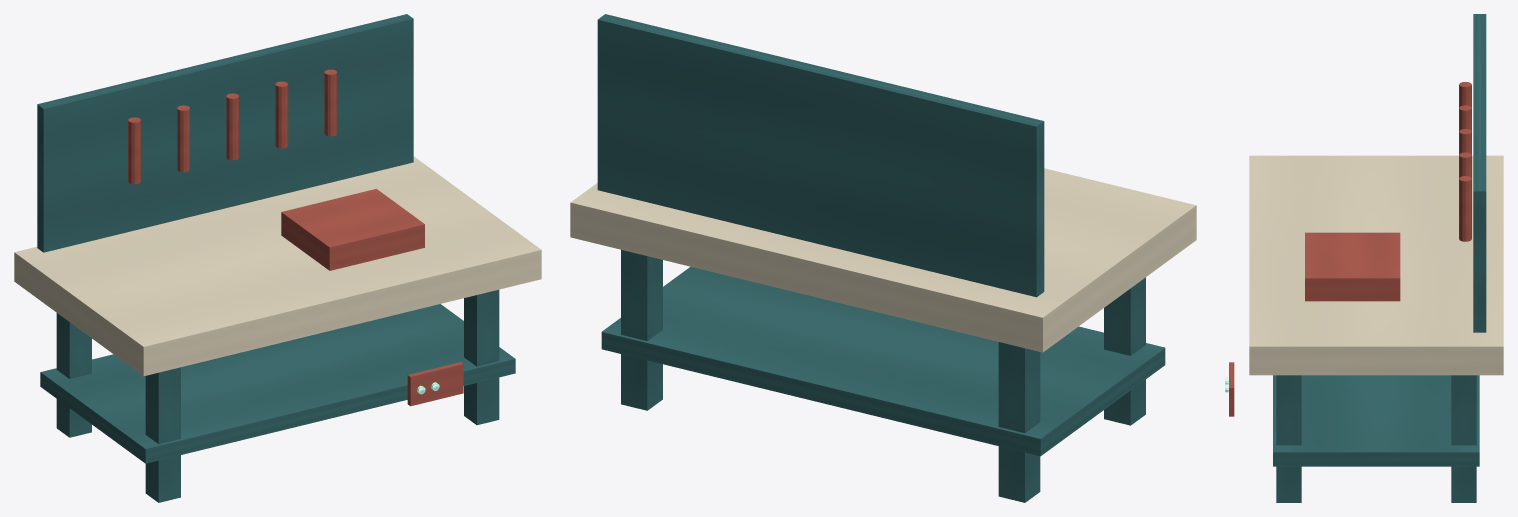
The model's file is atlas100-s038-a06.glb.
The picture shows the model from 3 angles, left to right: view 1: azimuth 30°, elevation 25°; view 2: azimuth 150°, elevation 25°; view 3: azimuth 270°, elevation 25°; orthographic projection. The views are drawn at different scales.
Parts seen in each view (by area): view 1: atlas100-s038-a06:part-004, atlas100-s038-a06:part-006, atlas100-s038-a06:part-005, atlas100-s038-a06:part-012, atlas100-s038-a06:part-003, atlas100-s038-a06:part-001, atlas100-s038-a06:part-000, atlas100-s038-a06:part-013, atlas100-s038-a06:part-010, atlas100-s038-a06:part-011, atlas100-s038-a06:part-009, atlas100-s038-a06:part-007 (+1 smaller); view 2: atlas100-s038-a06:part-006, atlas100-s038-a06:part-005, atlas100-s038-a06:part-004, atlas100-s038-a06:part-000, atlas100-s038-a06:part-002, atlas100-s038-a06:part-001; view 3: atlas100-s038-a06:part-004, atlas100-s038-a06:part-005, atlas100-s038-a06:part-012, atlas100-s038-a06:part-006, atlas100-s038-a06:part-002, atlas100-s038-a06:part-003, atlas100-s038-a06:part-011, atlas100-s038-a06:part-013.
Part boxes in pixels (left/top/right/bottom): atlas100-s038-a06:part-004: left=14, top=156, right=541, bottom=376; atlas100-s038-a06:part-006: left=37, top=14, right=413, bottom=252; atlas100-s038-a06:part-005: left=40, top=304, right=515, bottom=463; atlas100-s038-a06:part-012: left=281, top=189, right=424, bottom=270; atlas100-s038-a06:part-003: left=464, top=289, right=499, bottom=425; atlas100-s038-a06:part-001: left=145, top=367, right=180, bottom=502; atlas100-s038-a06:part-000: left=56, top=313, right=91, bottom=437; atlas100-s038-a06:part-013: left=407, top=362, right=463, bottom=406; atlas100-s038-a06:part-010: left=275, top=81, right=288, bottom=148; atlas100-s038-a06:part-011: left=324, top=69, right=337, bottom=136; atlas100-s038-a06:part-009: left=226, top=93, right=238, bottom=160; atlas100-s038-a06:part-007: left=128, top=117, right=140, bottom=184; atlas100-s038-a06:part-006: left=597, top=14, right=1044, bottom=297; atlas100-s038-a06:part-005: left=601, top=266, right=1165, bottom=456; atlas100-s038-a06:part-004: left=570, top=168, right=1196, bottom=352; atlas100-s038-a06:part-000: left=998, top=342, right=1040, bottom=502; atlas100-s038-a06:part-002: left=621, top=250, right=662, bottom=410; atlas100-s038-a06:part-001: left=1104, top=277, right=1145, bottom=425; atlas100-s038-a06:part-004: left=1249, top=155, right=1503, bottom=375; atlas100-s038-a06:part-005: left=1273, top=375, right=1479, bottom=466; atlas100-s038-a06:part-012: left=1305, top=232, right=1400, bottom=301; atlas100-s038-a06:part-006: left=1473, top=14, right=1486, bottom=332; atlas100-s038-a06:part-002: left=1451, top=375, right=1476, bottom=502; atlas100-s038-a06:part-003: left=1276, top=375, right=1301, bottom=502; atlas100-s038-a06:part-011: left=1459, top=176, right=1471, bottom=241; atlas100-s038-a06:part-013: left=1229, top=362, right=1234, bottom=416.
Size of the model in its own units: 2.84 by 2.21 by 1.75.
Materials: 4 (4 with a texture image).
